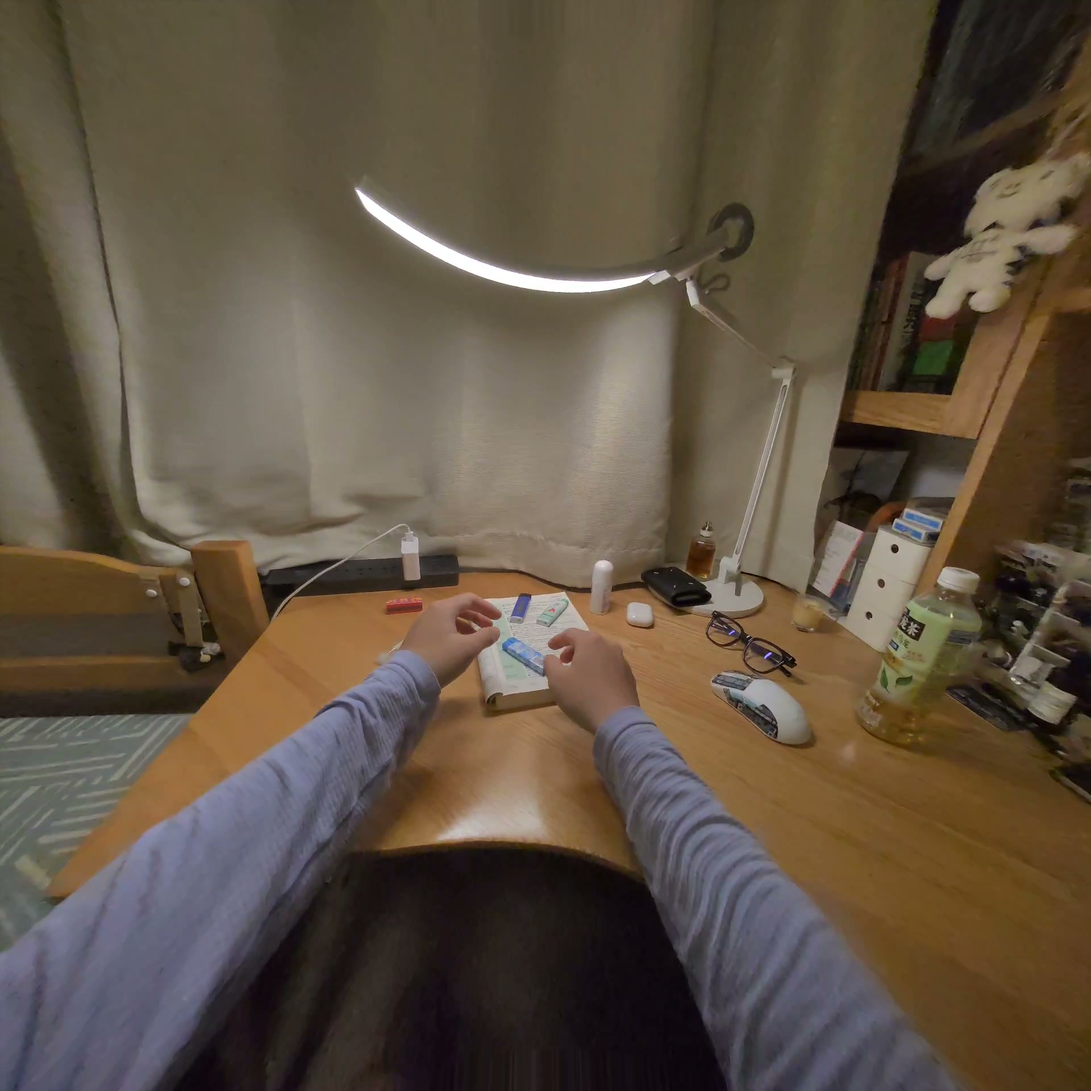lighter: (502, 638, 544, 676)
